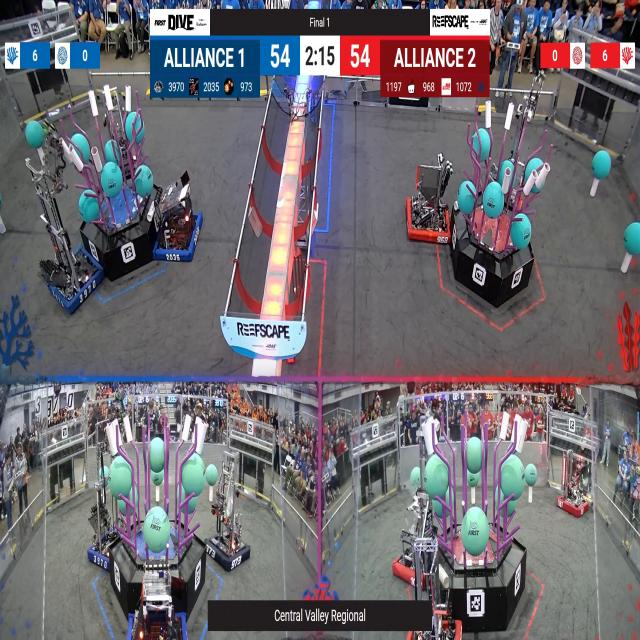scoreboard: (151, 37, 489, 97)
